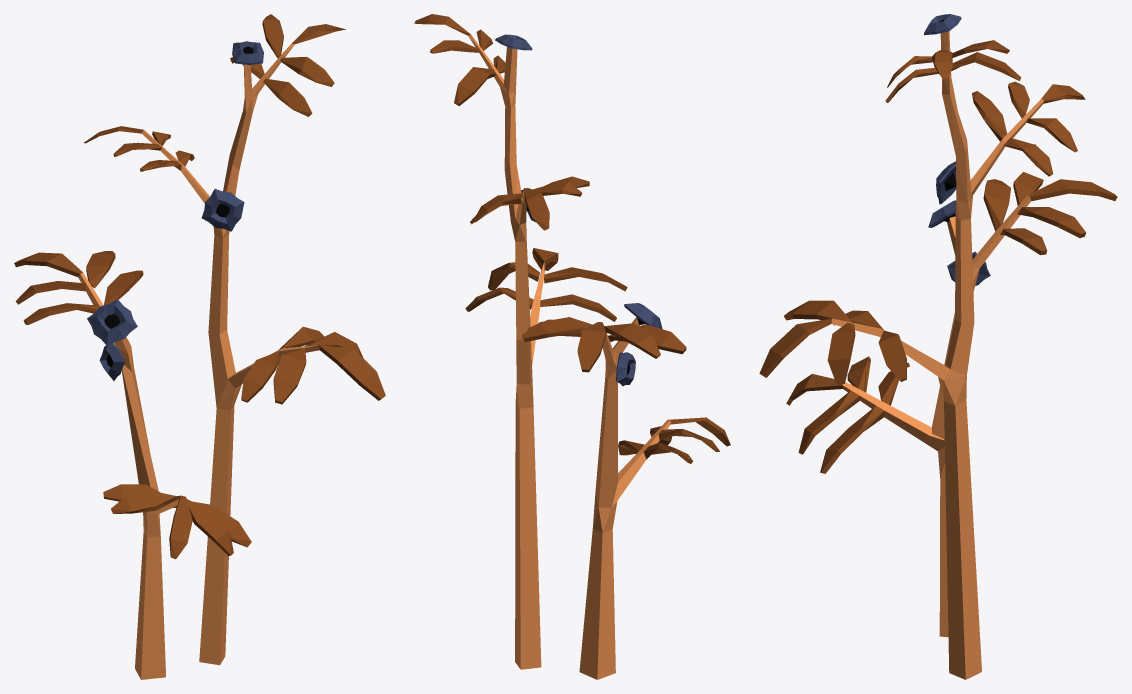
Rendered from Pootato_Dead_M.fbx.
3 renders of one model, left to right at view 1: azimuth 30°, elevation 25°; view 2: azimuth 150°, elevation 25°; view 3: azimuth 270°, elevation 25°, orthographic. The views are drawn at different scales.
Parts seen in each view (by area): view 1: Pootato_Dead_M; view 2: Pootato_Dead_M; view 3: Pootato_Dead_M.
Part boxes in pixels (x1,y1,x2,y2): Pootato_Dead_M: [14, 14, 385, 679]; Pootato_Dead_M: [414, 14, 730, 679]; Pootato_Dead_M: [759, 14, 1117, 679].
Size of the model in its own units: 17.91 by 35.72 by 17.31.
